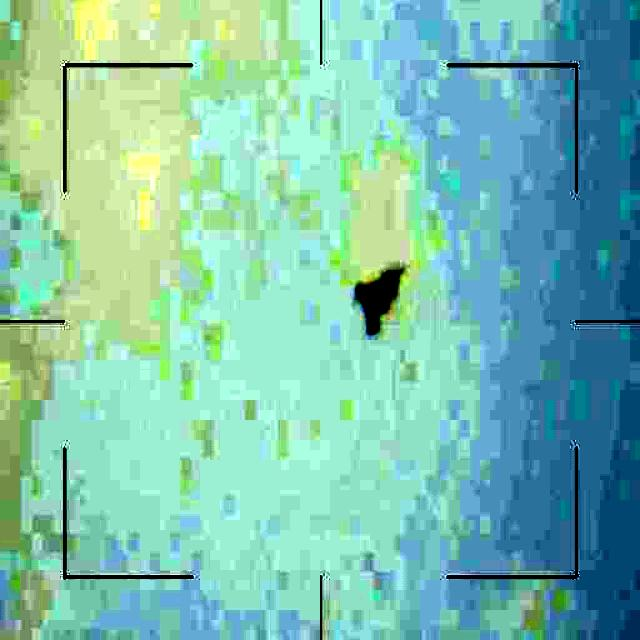bird: (341, 260, 395, 335)
